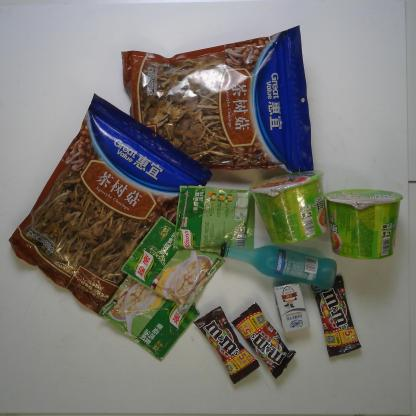Alcohol: (218, 242, 339, 292)
Chocolate: (191, 304, 262, 387), (229, 301, 300, 383), (307, 274, 365, 362)
Dried Food: (5, 90, 215, 317), (119, 22, 318, 177)
Instant Noodles: (249, 168, 329, 247), (321, 188, 406, 262)
Milk: (270, 278, 312, 335)
Seasoner: (119, 213, 228, 316), (96, 275, 202, 364), (172, 183, 256, 255)
